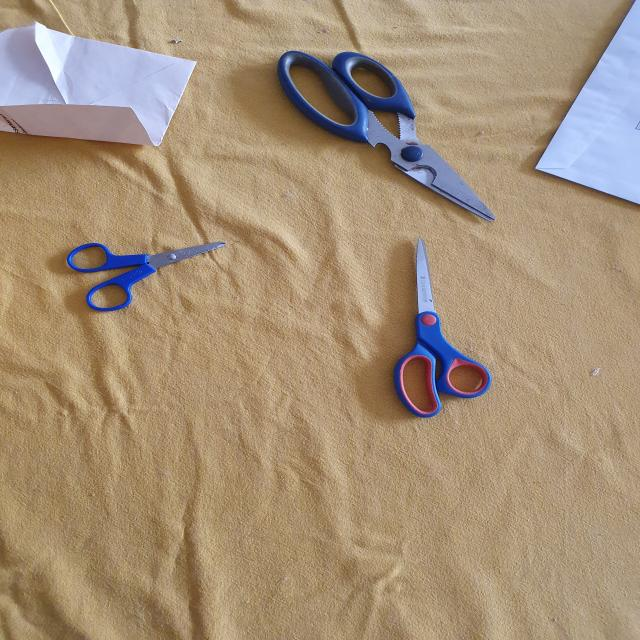scissors: (271, 48, 500, 221), (390, 238, 496, 422), (60, 240, 229, 315)
